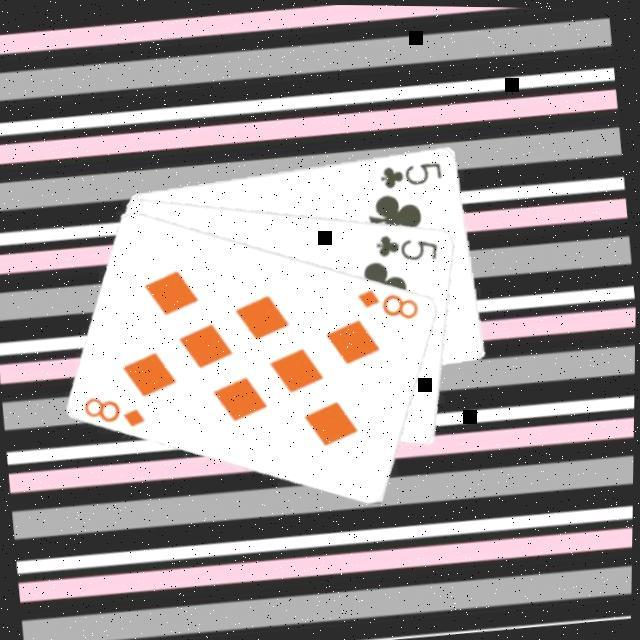5C: (370, 226, 441, 269), (374, 157, 445, 193)
8D: (352, 281, 423, 329), (78, 389, 149, 436)
